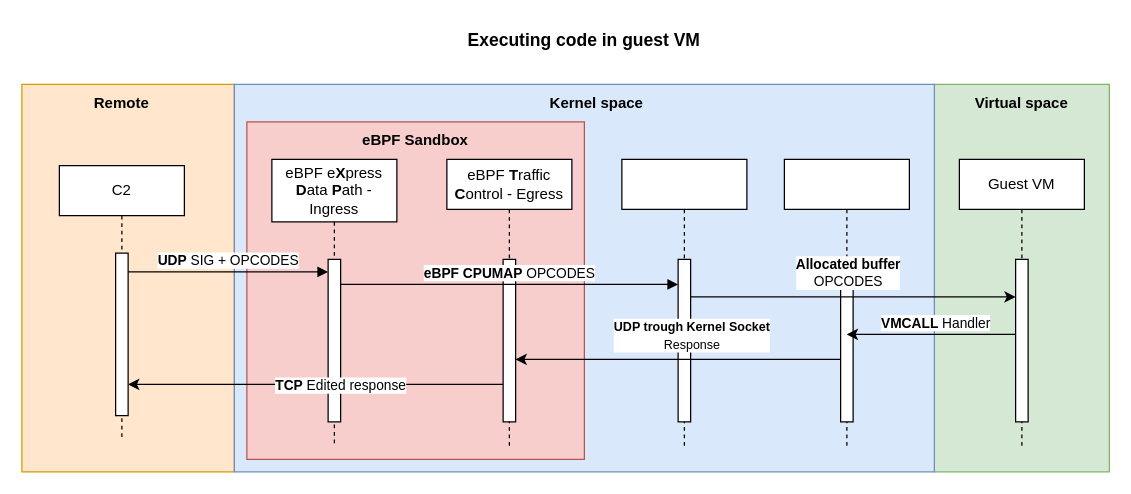
Image size: 1131x494. Some labels were removed from this diagram. Each missing label, with the box of its shape:
Hypervisor: (783, 158, 909, 447)
L inux K ernel M odule: (621, 158, 747, 447)
